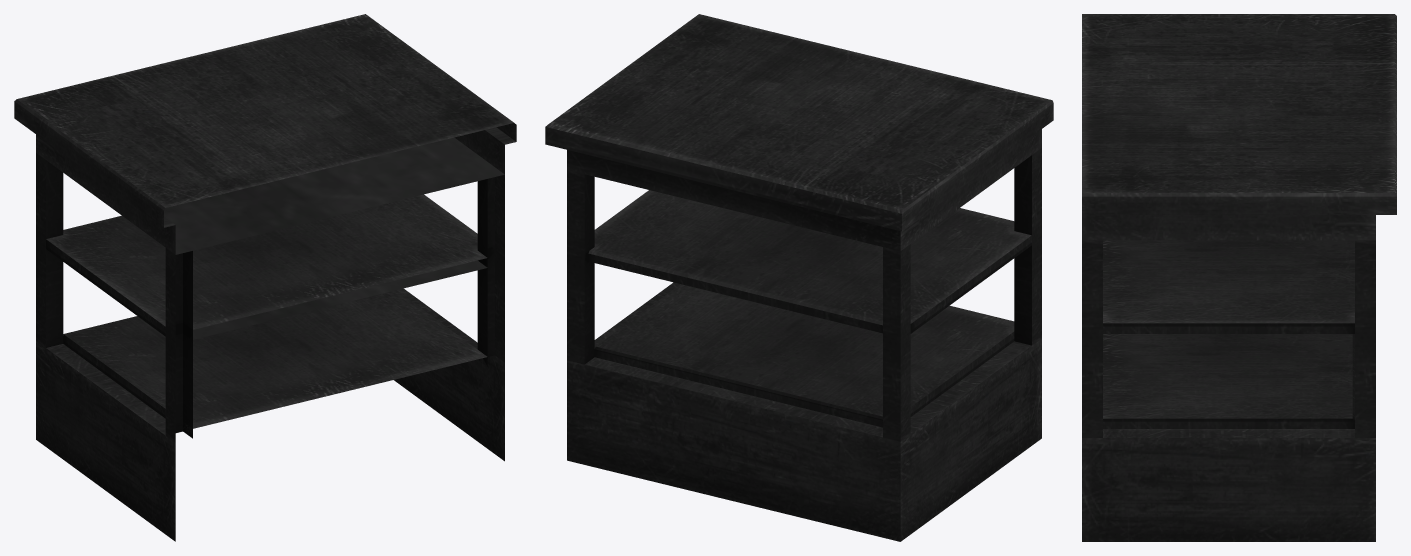
File: paris_kitchen_counter_b_lod0.glb
The picture shows the model from 3 angles, left to right: view 1: azimuth 30°, elevation 25°; view 2: azimuth 150°, elevation 25°; view 3: azimuth 270°, elevation 25°; orthographic projection. The views are drawn at different scales.
Visible parts, largest first — view 1: surf0; view 2: surf0; view 3: surf0.
Boxes of the visible parts, x1,y1,x2,y2 form: surf0: (14,14,516,541); surf0: (545,14,1053,541); surf0: (1082,14,1396,541).
Size of the model in its own units: 40.77 by 37.2 by 30.
